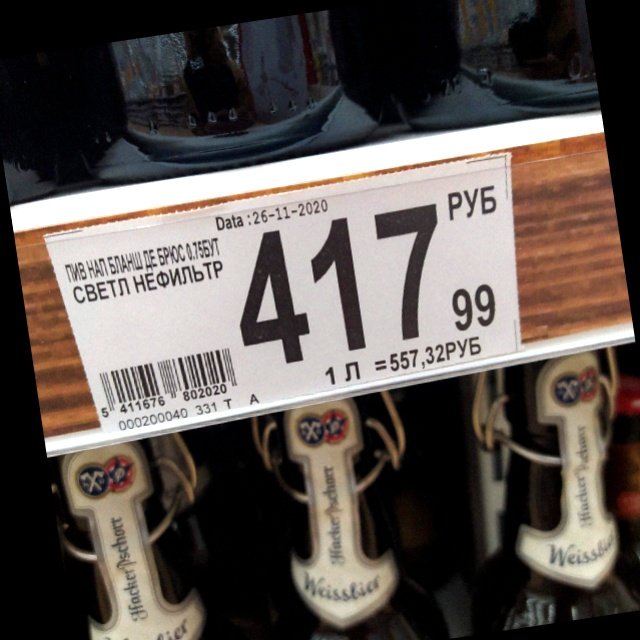barcode: (94, 348, 241, 418)
name: (64, 235, 228, 307)
price: (240, 199, 499, 367)
price_tag: (37, 152, 524, 435)
